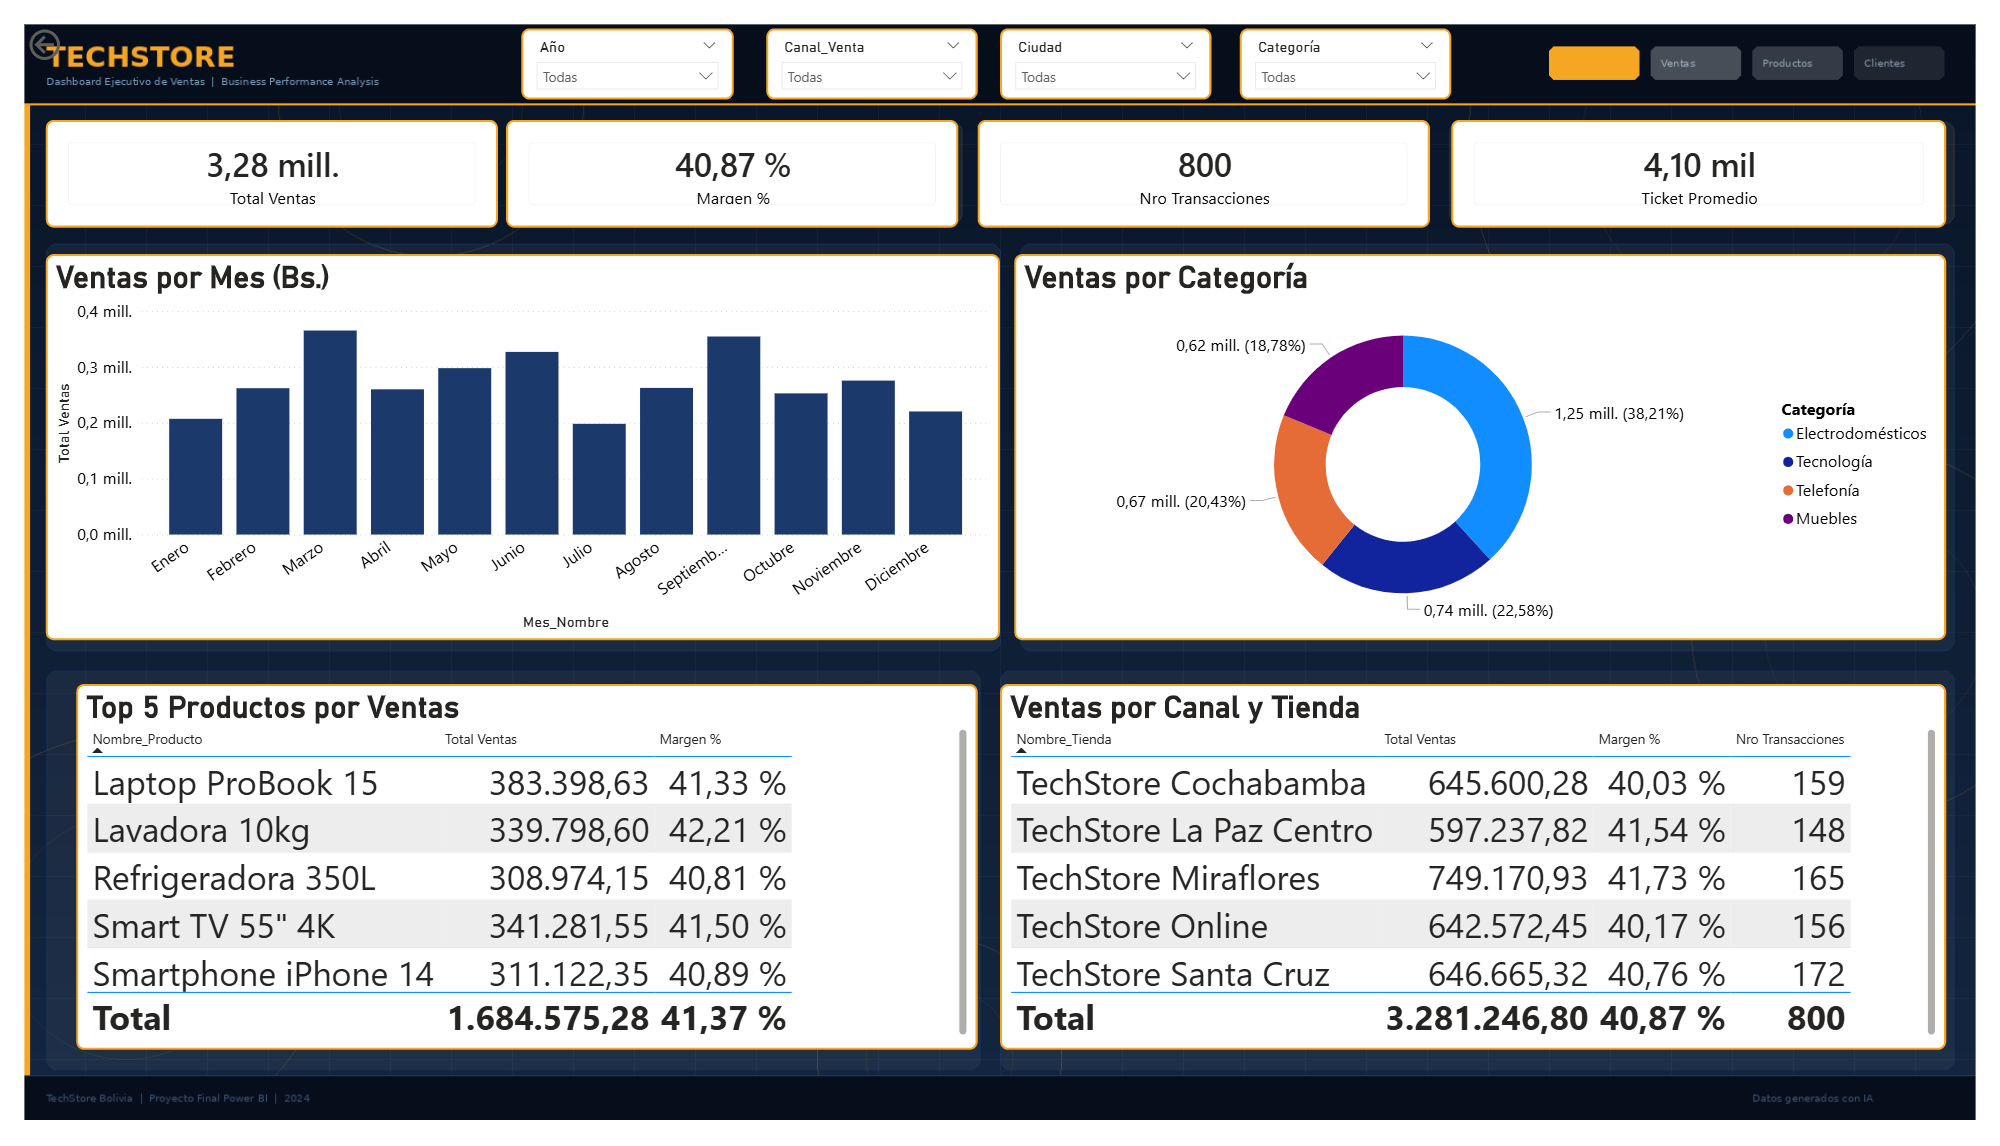

The dashboard page shown, as its layout file describes it:
{"tool":"powerbi","page":{"name":"Dashboard","canvas":[1920,1080],"ordinal":0},"visuals":[{"type":"cardVisual","fields":{"Data":["01 Medidas.Total Ventas"]},"box":[21.3,93.6,444.7,106.4],"z":0},{"type":"slicer","fields":{"Values":["DIM_Fecha.Año"]},"box":[489.4,4.3,208.5,70.2],"z":1000},{"type":"clusteredColumnChart","title":"Ventas por Mes (Bs.)","fields":{"Category":["DIM_Fecha.Mes_Nombre"],"Y":["01 Medidas.Total Ventas"]},"box":[21.3,225.5,938.3,380.9],"z":2000},{"type":"donutChart","title":"Ventas por Categoría","fields":{"Category":["DIM_Producto.Categoria"],"Y":["01 Medidas.Total Ventas"]},"box":[974.5,225.5,917,380.9],"z":3000},{"type":"tableEx","title":"Top 5 Productos por Ventas","fields":{"Values":["DIM_Producto.Nombre_Producto","01 Medidas.Total Ventas","01 Medidas.Margen %"]},"box":[51.1,648.9,887.2,359.6],"z":4000},{"type":"tableEx","title":"Ventas por Canal y Tienda","fields":{"Values":["DIM_Tienda.Nombre_Tienda","01 Medidas.Total Ventas","01 Medidas.Margen %","01 Medidas.Nro Transacciones"]},"box":[959.6,648.9,931.9,359.6],"z":5000},{"type":"actionButton","box":[0,0,100,40],"z":6000},{"type":"cardVisual","fields":{"Data":["01 Medidas.Margen %"]},"box":[474.5,93.6,444.7,106.4],"z":7000},{"type":"cardVisual","fields":{"Data":["01 Medidas.Nro Transacciones"]},"box":[938.3,93.6,444.7,106.4],"z":8000},{"type":"cardVisual","fields":{"Data":["01 Medidas.Ticket Promedio"]},"box":[1404.3,93.6,487.2,106.4],"z":9000},{"type":"slicer","fields":{"Values":["FACT_Ventas.Canal_Venta"]},"box":[729.8,4.3,208.5,70.2],"z":10000},{"type":"slicer","fields":{"Values":["DIM_Tienda.Ciudad"]},"box":[959.6,4.3,208.5,70.2],"z":11000},{"type":"slicer","fields":{"Values":["DIM_Producto.Categoria"]},"box":[1195.7,4.3,208.5,70.2],"z":12000}]}

Visuals, with their boxes in screenshot pixels (x1, y1, x2, y2), scaled from the page's 1920x1080 canvas onto the 2000x1146 screenshot:
cardVisual - 01 Medidas.Total Ventas: rect(22, 99, 485, 212)
slicer - DIM_Fecha.Año: rect(510, 5, 727, 79)
"Ventas por Mes (Bs.)" clusteredColumnChart: rect(22, 239, 1000, 643)
"Ventas por Categoría" donutChart: rect(1015, 239, 1970, 643)
"Top 5 Productos por Ventas" tableEx: rect(53, 689, 977, 1070)
"Ventas por Canal y Tienda" tableEx: rect(1000, 689, 1970, 1070)
actionButton: rect(0, 0, 104, 42)
cardVisual - 01 Medidas.Margen %: rect(494, 99, 958, 212)
cardVisual - 01 Medidas.Nro Transacciones: rect(977, 99, 1441, 212)
cardVisual - 01 Medidas.Ticket Promedio: rect(1463, 99, 1970, 212)
slicer - FACT_Ventas.Canal_Venta: rect(760, 5, 977, 79)
slicer - DIM_Tienda.Ciudad: rect(1000, 5, 1217, 79)
slicer - DIM_Producto.Categoria: rect(1246, 5, 1463, 79)
